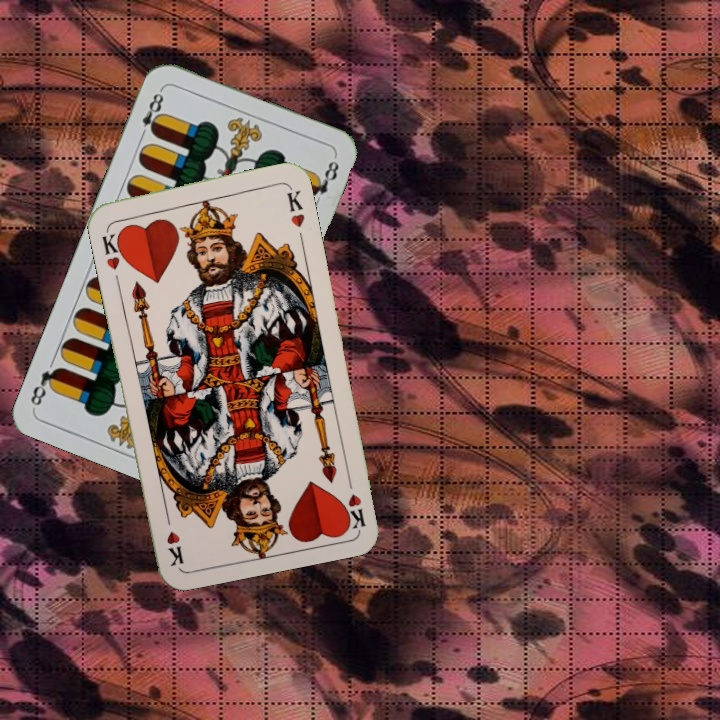E8: (136, 85, 167, 141)
HK: (339, 470, 368, 531), (97, 223, 129, 272)
